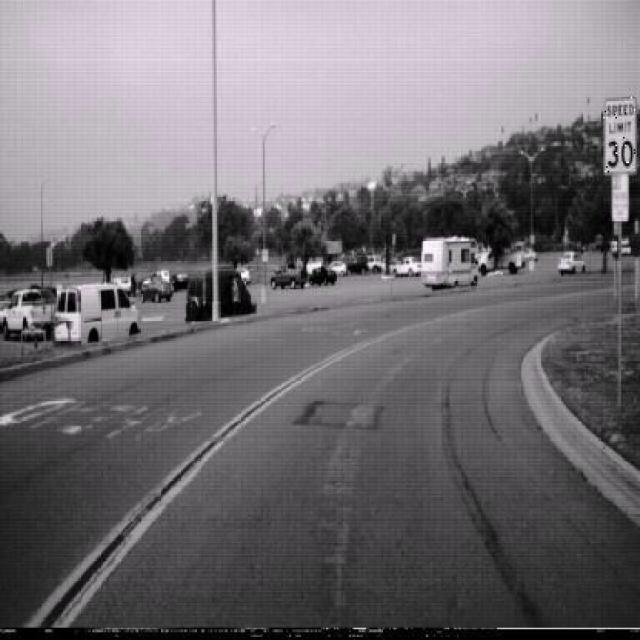speedLimit30: (603, 94, 638, 175)
